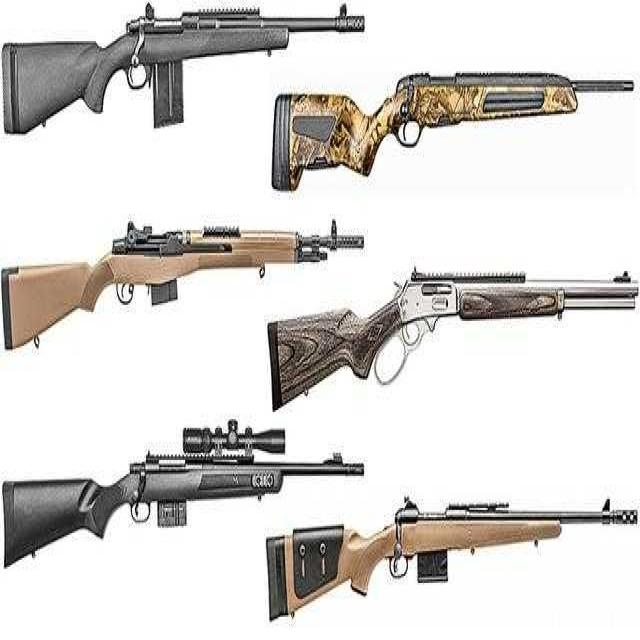heavyweapon: (1, 190, 393, 361), (1, 406, 376, 584), (261, 256, 640, 400), (1, 1, 371, 147), (259, 502, 640, 640), (269, 71, 638, 187)
